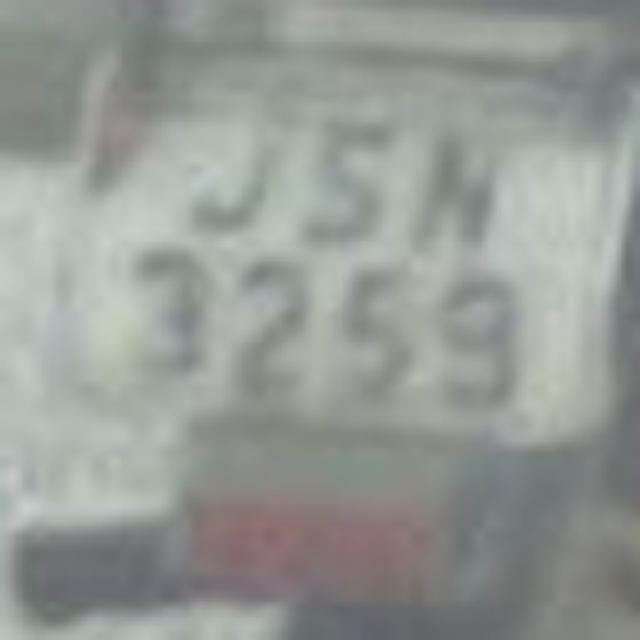2: (200, 236, 332, 412)
3: (96, 216, 216, 412)
5: (312, 244, 432, 411)
9: (420, 252, 535, 420)
J: (160, 92, 292, 248)
N: (388, 100, 520, 260)
